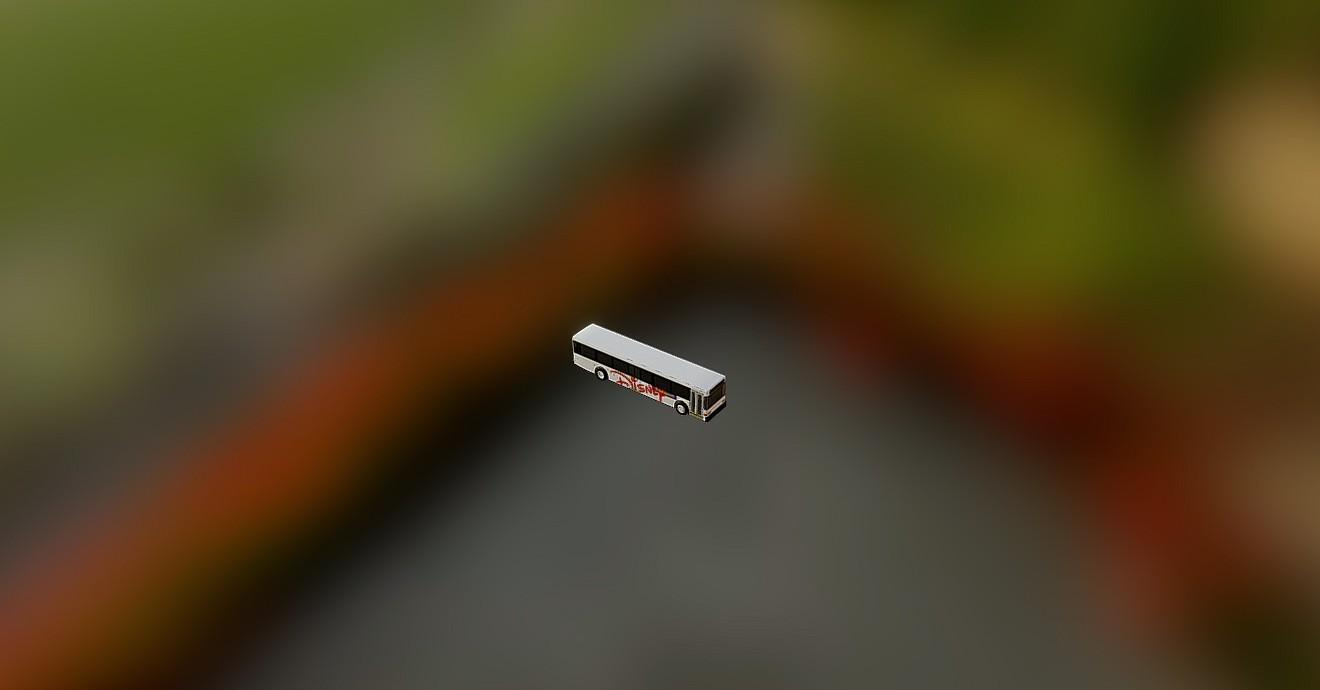Bus: (570, 321, 727, 423)
